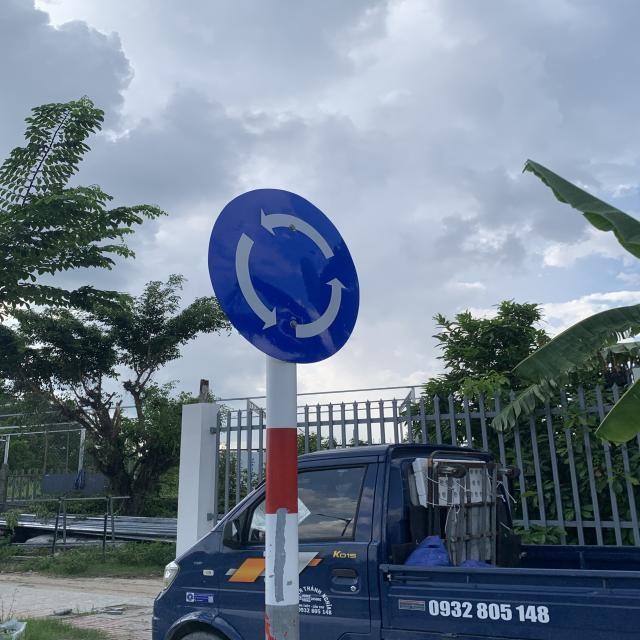Xe_Bus: (207, 187, 360, 363)
